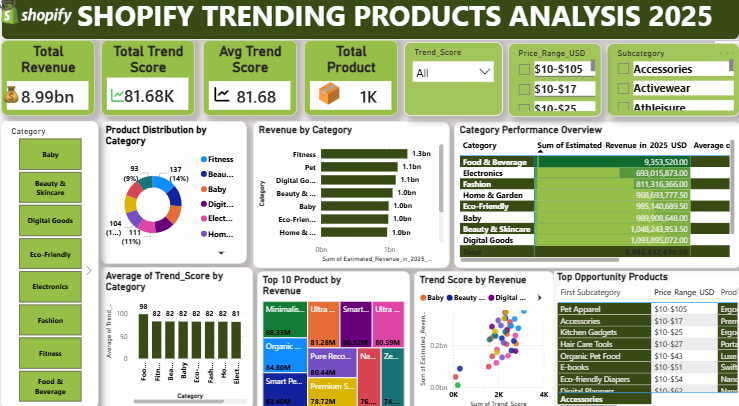

This screenshot's page, from the dashboard's own definition file:
{"tool":"powerbi","page":{"name":"Page 1","canvas":[1280,720],"ordinal":0},"visuals":[{"type":"textbox","box":[10,0,1259,85],"z":0},{"type":"image","box":[10.1,6.7,120.9,68.9],"z":1000},{"type":"cardVisual","title":"Total Revenue","fields":{"Data":["Sum(shopify_trending_products_2025.Estimated_Revenue_in_2025_USD)"]},"box":[10.1,85.7,159.6,129.3],"z":2000},{"type":"cardVisual","title":"Total Trend Score","fields":{"Data":["Sum(shopify_trending_products_2025.Trend_Score)"]},"box":[181.4,85.7,159.6,129.3],"z":3000},{"type":"cardVisual","title":"Avg Trend Score","fields":{"Data":["Avg(shopify_trending_products_2025.Trend_Score)"]},"box":[354.4,85.7,159.6,129.3],"z":4000},{"type":"cardVisual","title":"Total Product ","fields":{"Data":["CountNonNull(shopify_trending_products_2025.Product_ID)"]},"box":[527.5,85.7,159.6,129.3],"z":5000},{"type":"image","box":[544.3,151.2,52.1,48.7],"z":6000},{"type":"image","box":[369.6,154.5,33.6,45.4],"z":7000},{"type":"image","box":[10.1,154.5,35.3,45.4],"z":8000},{"type":"image","box":[194.9,154.5,28.6,48.7],"z":9000},{"type":"donutChart","title":"Product Distribution by Category","fields":{"Category":["shopify_trending_products_2025.Category"],"Y":["CountNonNull(shopify_trending_products_2025.Product_ID)"]},"box":[179,223,250,243],"z":10000},{"type":"clusteredBarChart","title":"Revenue by Category","fields":{"Category":["shopify_trending_products_2025.Category"],"Y":["Sum(shopify_trending_products_2025.Estimated_Revenue_in_2025_USD)"]},"box":[439,223,335,251],"z":11000},{"type":"pivotTable","title":"Category Performance Overview ","fields":{"Rows":["shopify_trending_products_2025.Category"],"Values":["Sum(shopify_trending_products_2025.Estimated_Revenue_in_2025_USD)","Avg(shopify_trending_products_2025.Trend_Score)","CountNonNull(shopify_trending_products_2025.Product_ID)"]},"box":[782,223,489,251],"z":12000},{"type":"actionButton","box":[0,0,100,40],"z":13000},{"type":"columnChart","title":"Average of Trend_Score by Category","fields":{"Category":["shopify_trending_products_2025.Category"],"Y":["Avg(shopify_trending_products_2025.Trend_Score)"]},"box":[179,472,261,243],"z":14000},{"type":"treemap","title":"Top 10 Product by Revenue","fields":{"Group":["shopify_trending_products_2025.Product_Name"],"Values":["Sum(shopify_trending_products_2025.Estimated_Revenue_in_2025_USD)"]},"box":[446.8,478.7,261,242],"z":15000},{"type":"scatterChart","title":"Trend Score by Revenue","fields":{"X":["Sum(shopify_trending_products_2025.Trend_Score)"],"Y":["Sum(shopify_trending_products_2025.Estimated_Revenue_in_2025_USD)"],"Series":["shopify_trending_products_2025.Category"],"Category":["shopify_trending_products_2025.Trend_Source"]},"box":[714,478.7,239,242],"z":16000},{"type":"slicer","fields":{"Values":["shopify_trending_products_2025.Category"]},"box":[10.1,223.4,166.3,490],"z":17000},{"type":"tableEx","title":"Top Opportunity Products ","fields":{"Values":["shopify_trending_products_2025.Subcategory","shopify_trending_products_2025.Price_Range_USD","shopify_trending_products_2025.Product_Name","Sum(shopify_trending_products_2025.Trend_Score)","Sum(shopify_trending_products_2025.Estimated_Revenue_in_2025_USD)"]},"box":[953,479,327,241],"z":18000},{"type":"slicer","fields":{"Values":["shopify_trending_products_2025.Trend_Score"]},"box":[697.1,89,168,126],"z":19000},{"type":"slicer","fields":{"Values":["shopify_trending_products_2025.Subcategory"]},"box":[1043.9,90.7,225.9,124.9],"z":20000},{"type":"slicer","fields":{"Values":["shopify_trending_products_2025.Price_Range_USD"]},"box":[873.6,91.1,158.5,126.5],"z":21000}]}

Visuals, with their boxes in screenshot pixels (x1, y1, x2, y2), scaled from the page's 1280x720 canvas onto the 739x406 screenshot:
textbox: box(6, 0, 733, 48)
image: box(6, 4, 76, 43)
"Total Revenue" cardVisual: box(6, 48, 98, 121)
"Total Trend Score" cardVisual: box(105, 48, 197, 121)
"Avg Trend Score" cardVisual: box(205, 48, 297, 121)
"Total Product " cardVisual: box(305, 48, 397, 121)
image: box(314, 85, 344, 113)
image: box(213, 87, 233, 113)
image: box(6, 87, 26, 113)
image: box(113, 87, 129, 115)
"Product Distribution by Category" donutChart: box(103, 126, 248, 263)
"Revenue by Category" clusteredBarChart: box(253, 126, 447, 267)
"Category Performance Overview " pivotTable: box(451, 126, 734, 267)
actionButton: box(0, 0, 58, 23)
"Average of Trend_Score by Category" columnChart: box(103, 266, 254, 403)
"Top 10 Product by Revenue" treemap: box(258, 270, 409, 405)
"Trend Score by Revenue" scatterChart: box(412, 270, 550, 405)
slicer - shopify_trending_products_2025.Category: box(6, 126, 102, 402)
"Top Opportunity Products " tableEx: box(550, 270, 738, 405)
slicer - shopify_trending_products_2025.Trend_Score: box(402, 50, 499, 121)
slicer - shopify_trending_products_2025.Subcategory: box(603, 51, 733, 122)
slicer - shopify_trending_products_2025.Price_Range_USD: box(504, 51, 596, 123)
